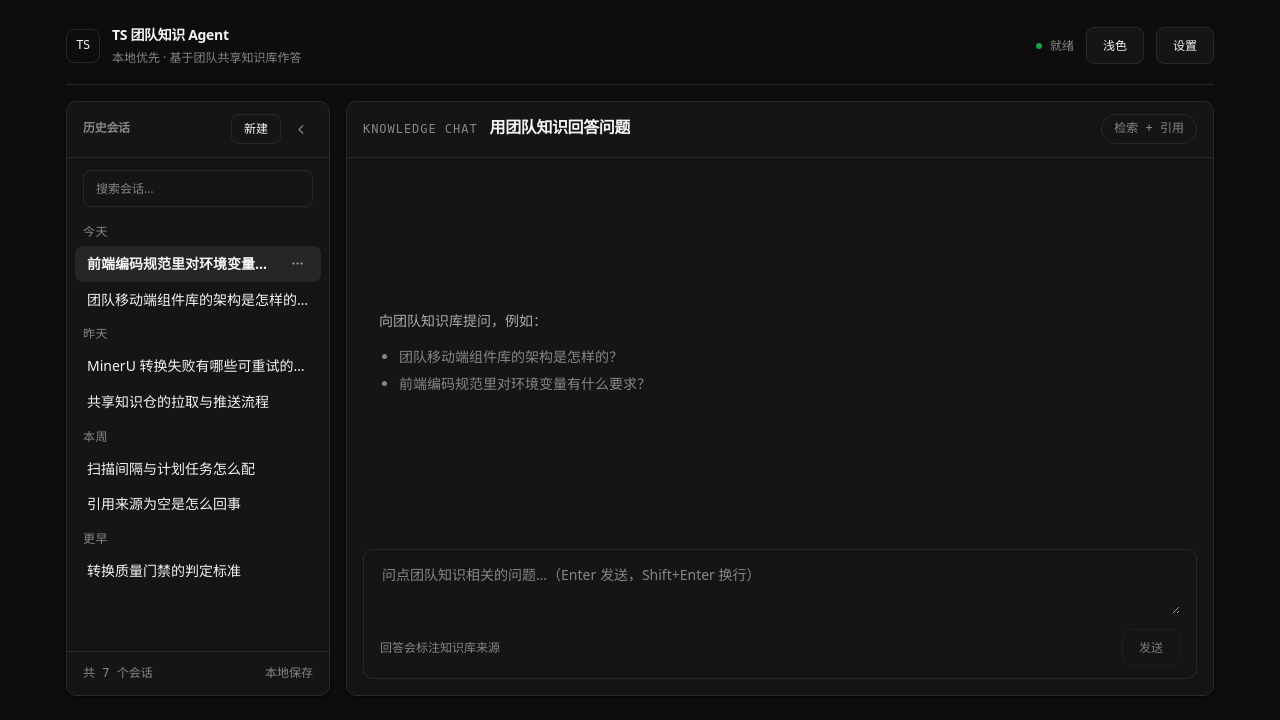
Scenario: agent chat shell › pulls and pushes the shared knowledge repository
The width and height of the screenshot is (1280, 720).
Click the button with class "settings-button" at [1185, 46], box [1156, 27, 1214, 64]
(page scrolled)
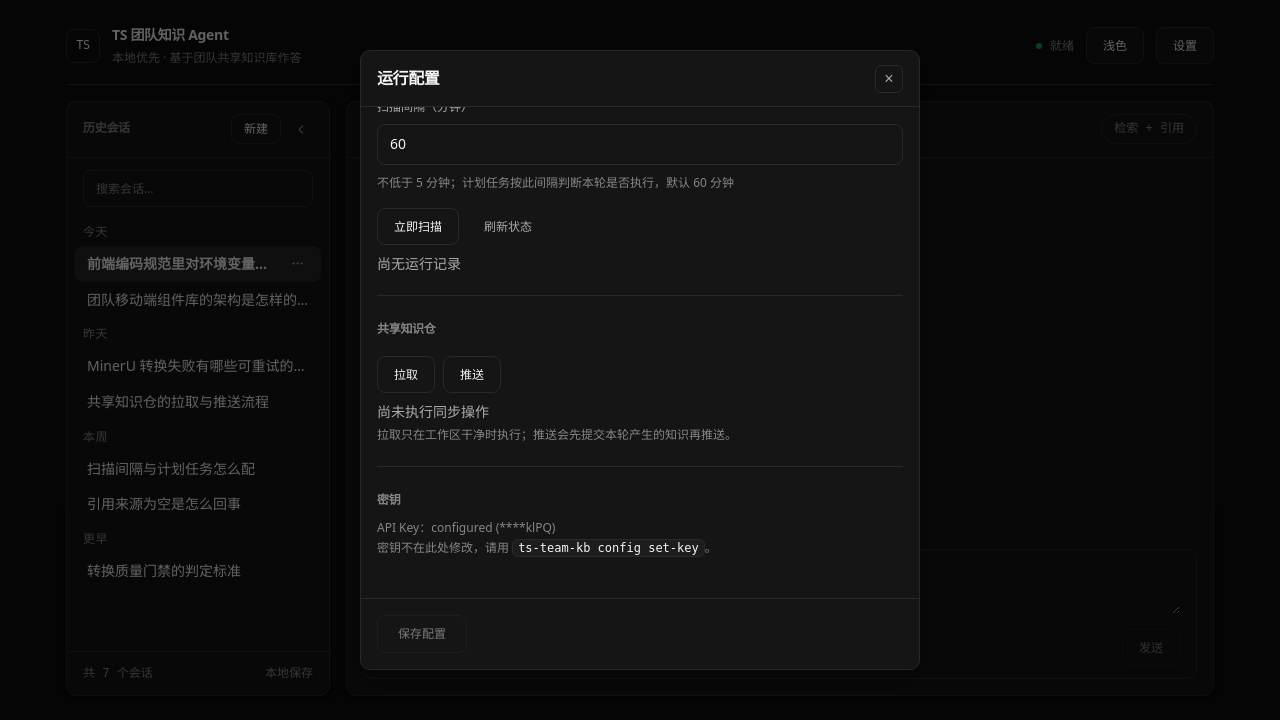
Click the button "拉取" at [406, 374], box [377, 356, 435, 393]
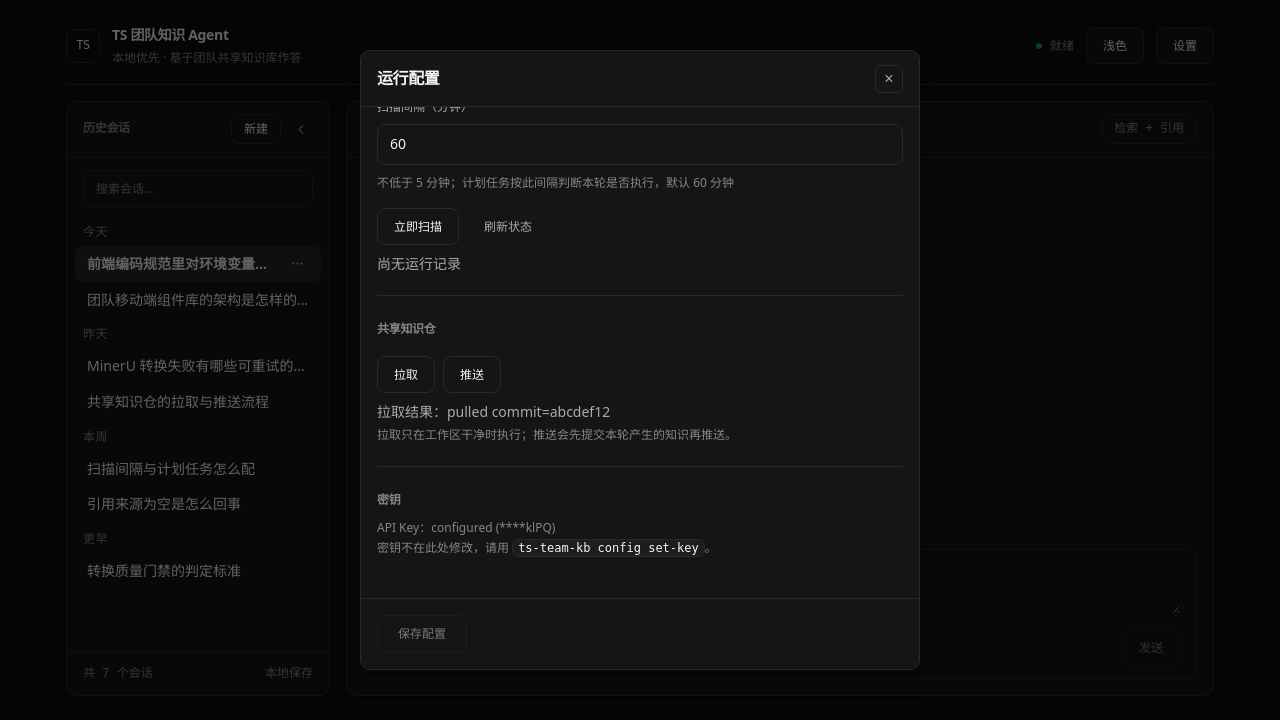
Click the button "推送" at [472, 374], box [443, 356, 501, 393]
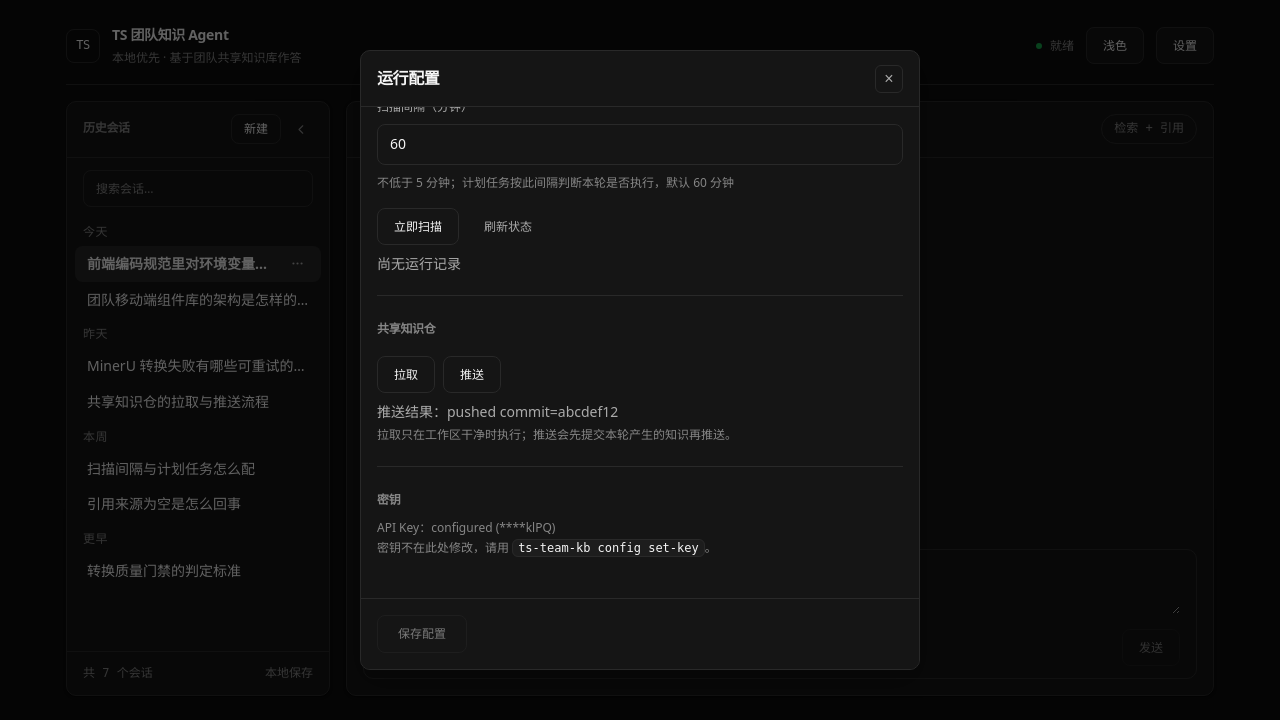
Expected: the element with class "settings-section" shows "推送结果：pushed", [377, 402, 618, 421]
